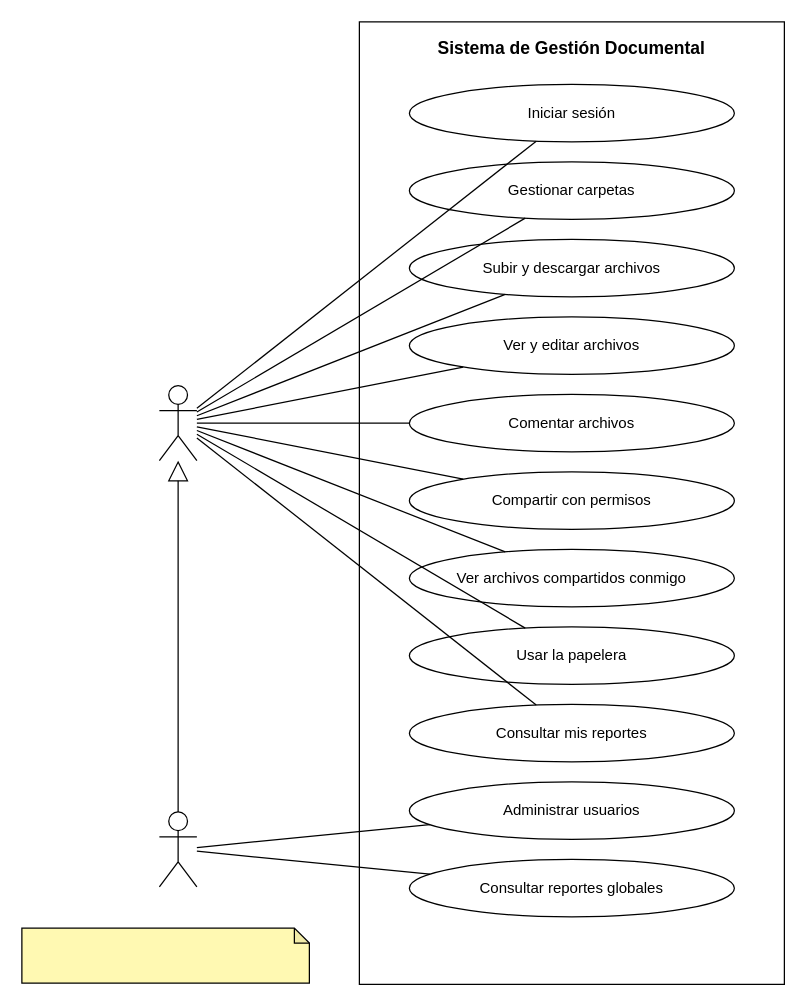
Image size: 806x1006. Some labels were removed from this diagram. Each missing label, with the centre of its shape:
"Administrador" goes at point 177,849.
"El Administrador también puede hacer todo lo que hace un Usuario." goes at point 165,955.
"Usuario" goes at point 177,422.
